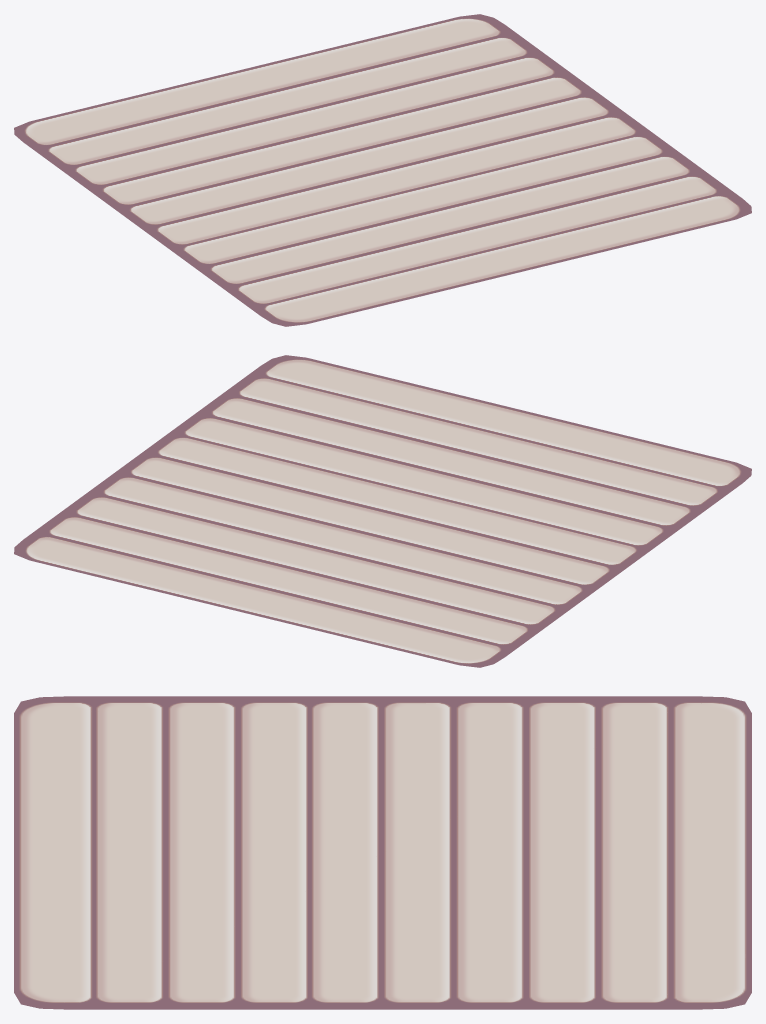
File: Block_Square_3x3_stripe.fbx
The picture shows the model from 3 angles, top to bottom: view 1: azimuth 30°, elevation 25°; view 2: azimuth 150°, elevation 25°; view 3: azimuth 270°, elevation 25°; orthographic projection. The views are drawn at different scales.
Visible parts, largest first — view 1: Block_Square_3x3 _stripe; view 2: Block_Square_3x3 _stripe; view 3: Block_Square_3x3 _stripe.
Boxes of the visible parts, box(x1,y1,x2,y2) form: Block_Square_3x3 _stripe: box(14, 14, 751, 326); Block_Square_3x3 _stripe: box(14, 355, 751, 667); Block_Square_3x3 _stripe: box(14, 696, 751, 1009).
Size of the model in its own units: 268 by 1.17e-05 by 267.
